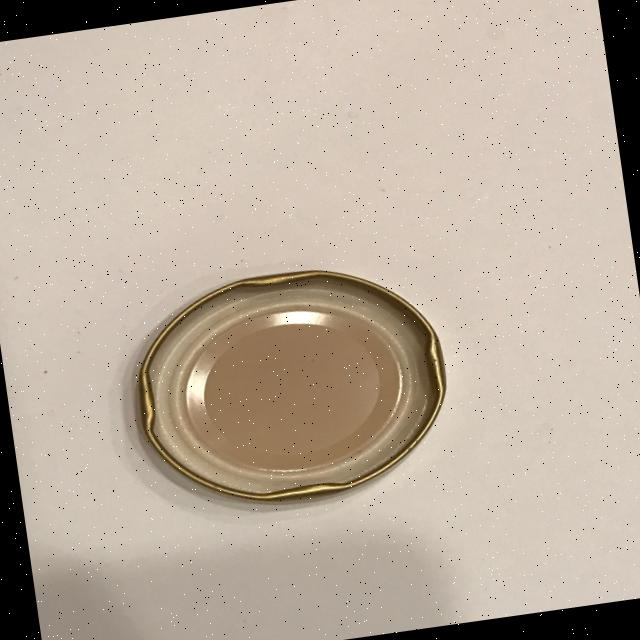metal: (123, 251, 462, 523)
